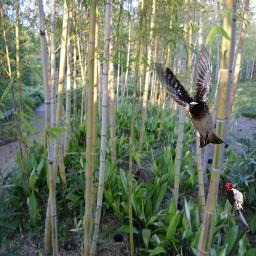Swallow: (155, 44, 226, 148)
Woodpecker: (225, 183, 245, 216)
